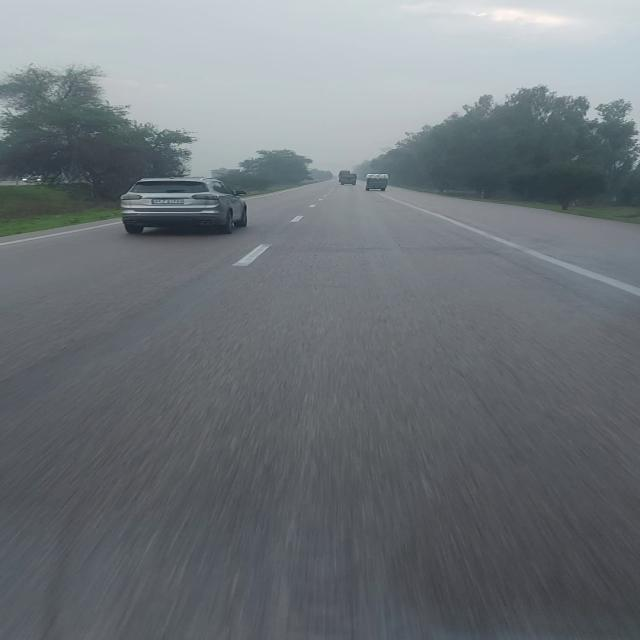Car: (111, 173, 259, 245)
